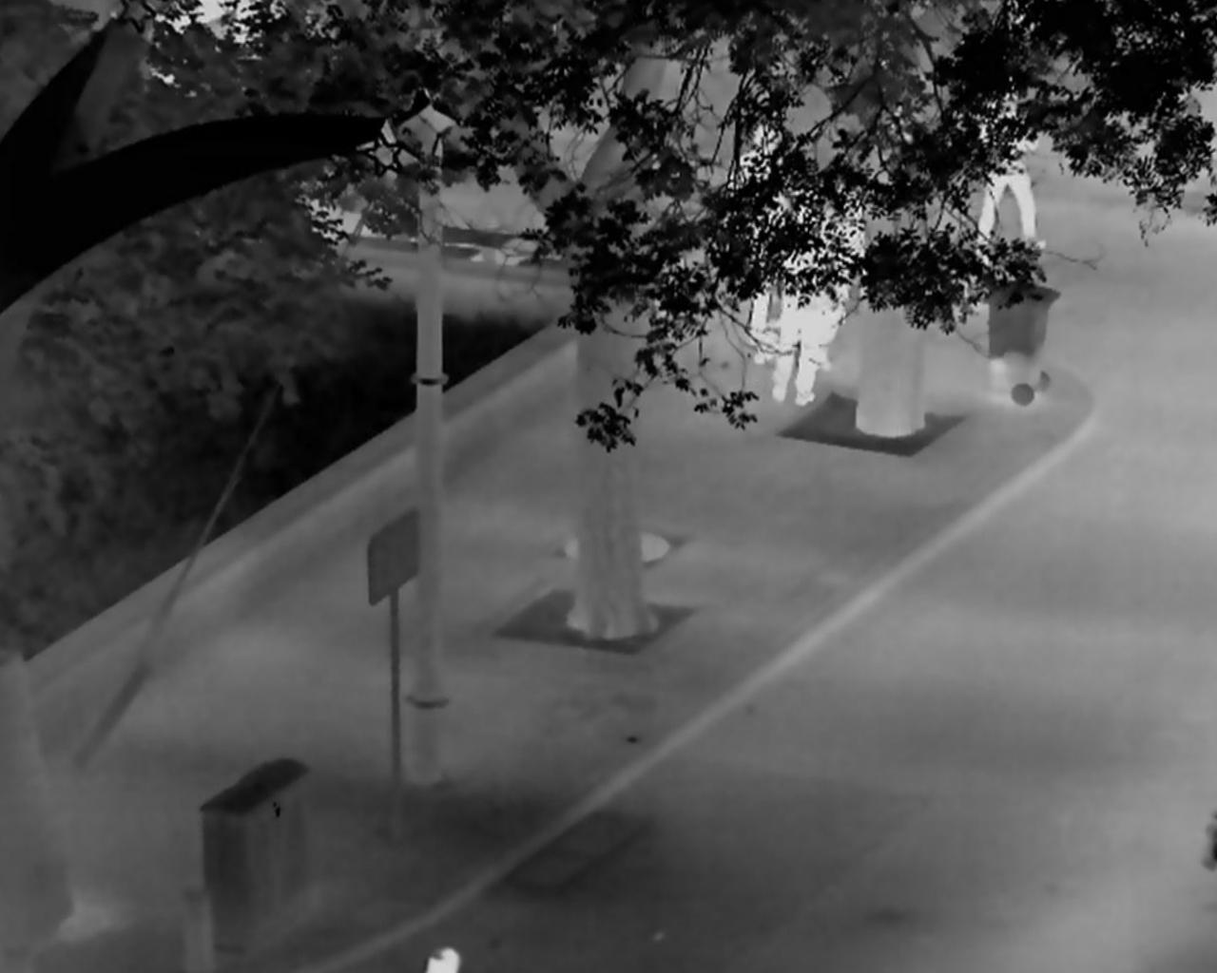person: (976, 91, 1048, 271), (728, 121, 770, 343), (819, 178, 866, 366), (773, 217, 818, 405)
